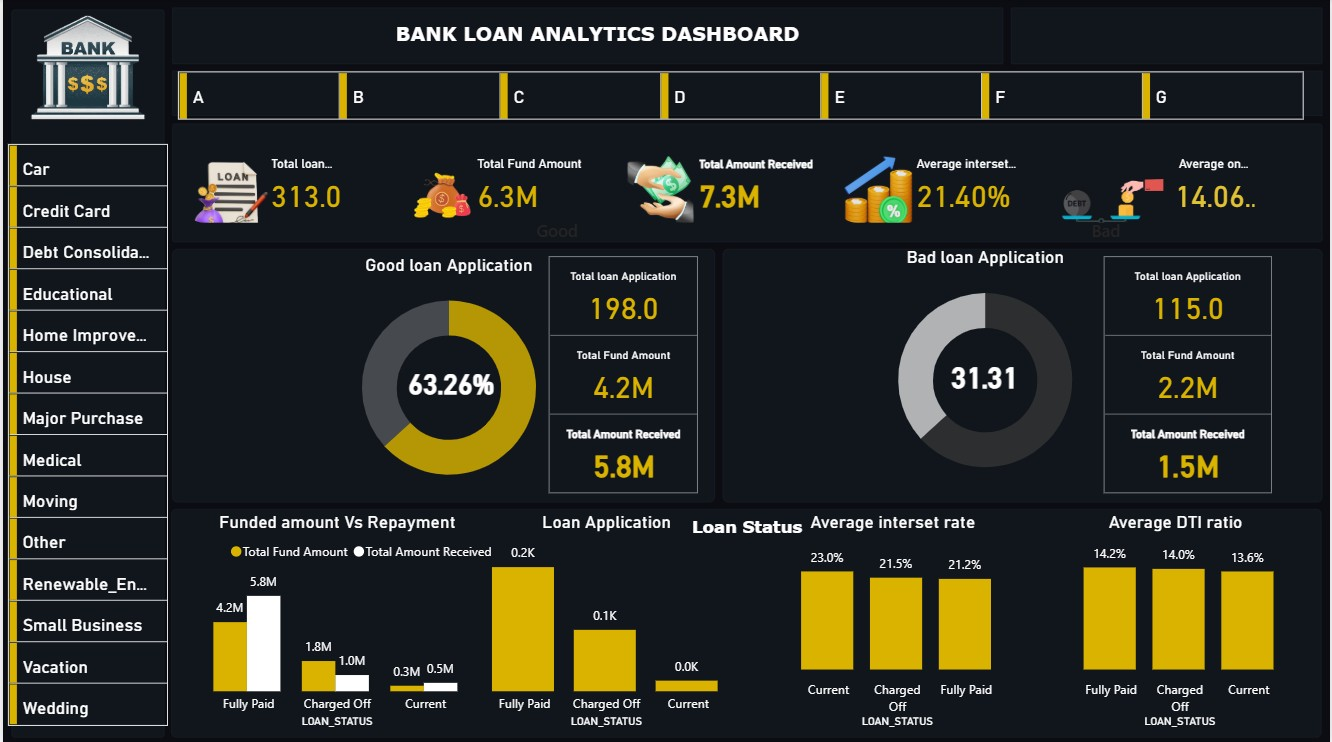

The dashboard page shown, as its layout file describes it:
{"tool":"powerbi","page":{"name":"Summary","canvas":[1280,720],"ordinal":0},"visuals":[{"type":"cardVisual","fields":{"Data":["financial_loan.Total loan Application","financial_loan.Total Fund Amount","financial_loan.Total Amount Received","financial_loan.Average interset Rate","financial_loan.average on rate"]},"box":[144.3,135.6,1103.7,86.6],"z":0},{"type":"donutChart","title":"Good loan Application ","fields":{"Category":["financial_loan.Good_vs_Bad_Loan"],"Y":["financial_loan.Total loan Application"]},"box":[178.4,245.9,504.1,239.2],"z":1000},{"type":"donutChart","title":"Bad loan Application ","fields":{"Category":["financial_loan.Good_vs_Bad_Loan"],"Y":["financial_loan.Total loan Application"]},"box":[695.9,239.2,504.1,239.2],"z":2000},{"type":"card","fields":{"Values":["financial_loan.Good loan %"]},"box":[362.7,325.7,139.4,89.6],"z":3000},{"type":"card","fields":{"Values":["financial_loan.Bad loan %"]},"box":[893.1,333.3,109.6,63.5],"z":4000},{"type":"clusteredColumnChart","title":"Funded amount Vs Repayment","fields":{"Category":["financial_loan.LOAN_STATUS"],"Y":["financial_loan.Total Fund Amount","financial_loan.Total Amount Received"]},"box":[164.5,494.9,317.4,213.5],"z":5000},{"type":"clusteredColumnChart","title":"Loan Application","fields":{"Category":["financial_loan.LOAN_STATUS"],"Y":["financial_loan.Total loan Application"]},"box":[435.7,494.9,294.3,213.5],"z":6000},{"type":"textbox","box":[659.3,494.9,200.5,30.3],"z":7000},{"type":"clusteredColumnChart","title":"Average interset rate","fields":{"Category":["financial_loan.LOAN_STATUS"],"Y":["financial_loan.Average interset Rate"]},"box":[730,494.9,258.3,213.5],"z":8000},{"type":"clusteredColumnChart","title":"Average DTI ratio","fields":{"Category":["financial_loan.LOAN_STATUS"],"Y":["financial_loan.Average on Ratio"]},"box":[1002.7,494.9,258.3,213.5],"z":9000},{"type":"image","box":[0,0,164.5,131.3],"z":10000},{"type":"advancedSlicerVisual","fields":{"Values":["financial_loan.PURPOSE"]},"box":[0,135.1,155.6,573.1],"z":11000},{"type":"advancedSlicerVisual","fields":{"Values":["financial_loan.GRADE"]},"box":[164.5,64.9,1102.3,56.3],"z":12000},{"type":"textbox","box":[362.1,17.3,424.2,47.6],"z":13000},{"type":"cardVisual","fields":{"Data":["financial_loan.Total loan Application","financial_loan.Total Fund Amount","financial_loan.Total Amount Received"],"Rows":["financial_loan.Good_vs_Bad_Loan"]},"box":[501.9,193,193,292],"z":14000},{"type":"cardVisual","fields":{"Data":["financial_loan.Total loan Application","financial_loan.Total Fund Amount","financial_loan.Total Amount Received"],"Rows":["financial_loan.Good_vs_Bad_Loan"]},"box":[1037.5,193,211.1,292],"z":15000},{"type":"pageNavigator","box":[838.2,17.3,399.6,39],"z":15001}]}

Visuals, with their boxes in screenshot pixels (x1, y1, x2, y2), scaled from the page's 1280x720 canvas onto the 1332x742 screenshot:
cardVisual - financial_loan.Total loan Application x financial_loan.Total Fund Amount: box(150, 140, 1299, 229)
"Good loan Application " donutChart: box(186, 253, 710, 500)
"Bad loan Application " donutChart: box(724, 247, 1249, 493)
card - financial_loan.Good loan %: box(377, 336, 522, 428)
card - financial_loan.Bad loan %: box(929, 343, 1043, 409)
"Funded amount Vs Repayment" clusteredColumnChart: box(171, 510, 501, 730)
"Loan Application" clusteredColumnChart: box(453, 510, 760, 730)
textbox: box(686, 510, 895, 541)
"Average interset rate" clusteredColumnChart: box(760, 510, 1028, 730)
"Average DTI ratio" clusteredColumnChart: box(1043, 510, 1312, 730)
image: box(0, 0, 171, 135)
advancedSlicerVisual - financial_loan.PURPOSE: box(0, 139, 162, 730)
advancedSlicerVisual - financial_loan.GRADE: box(171, 67, 1318, 125)
textbox: box(377, 18, 818, 67)
cardVisual - financial_loan.Total loan Application x financial_loan.Total Fund Amount: box(522, 199, 723, 500)
cardVisual - financial_loan.Total loan Application x financial_loan.Total Fund Amount: box(1080, 199, 1299, 500)
pageNavigator: box(872, 18, 1288, 58)
